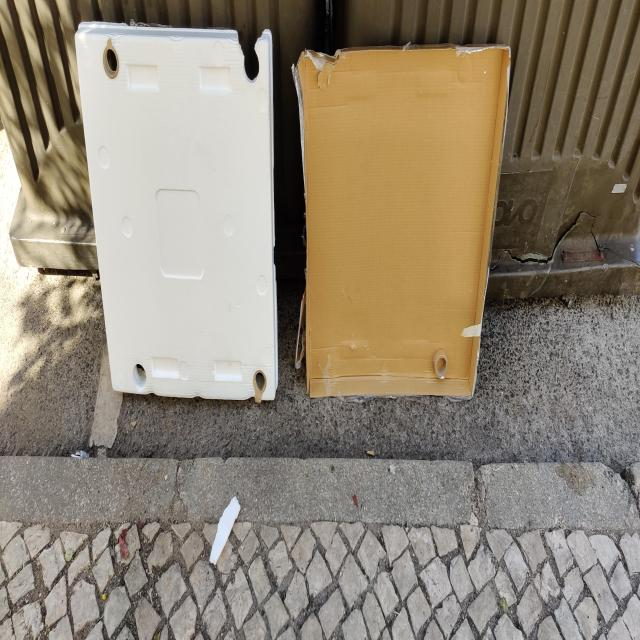litter: (195, 476, 253, 601)
